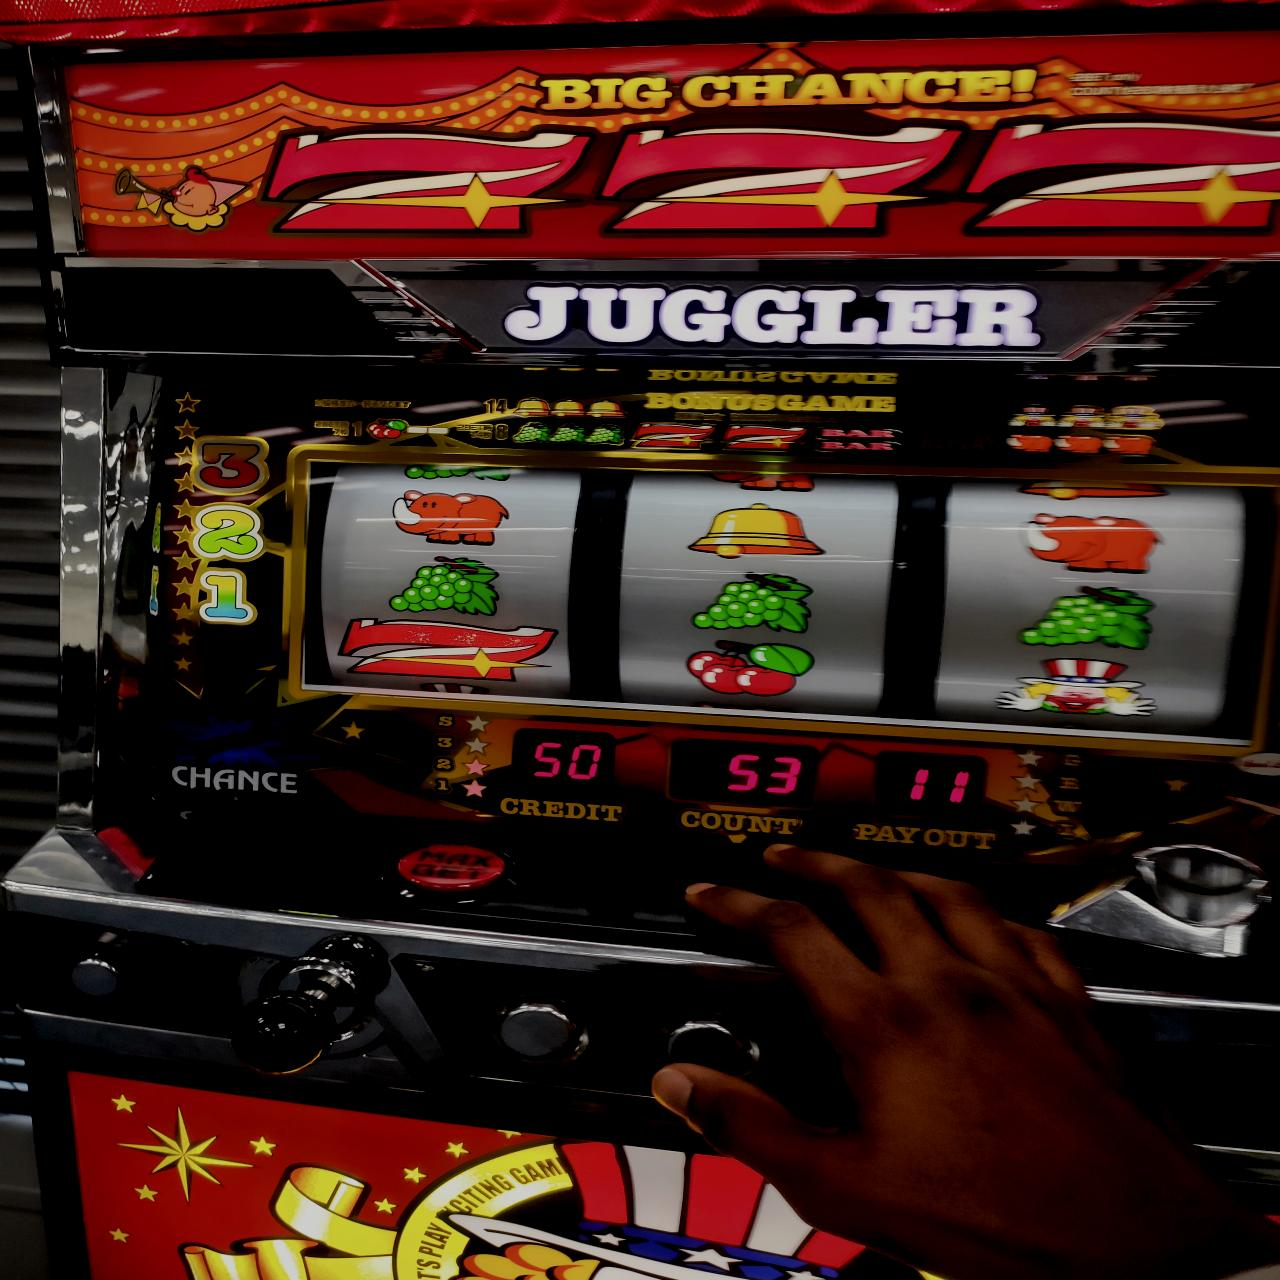7: (336, 618, 556, 681)
8: (1022, 509, 1165, 574), (388, 490, 510, 545)
Display: (302, 456, 1261, 748)
bell: (689, 496, 826, 559)
cherry: (686, 639, 815, 694)
clown: (999, 658, 1159, 719)
grape: (1020, 584, 1159, 651), (690, 571, 813, 633), (390, 552, 508, 617)
